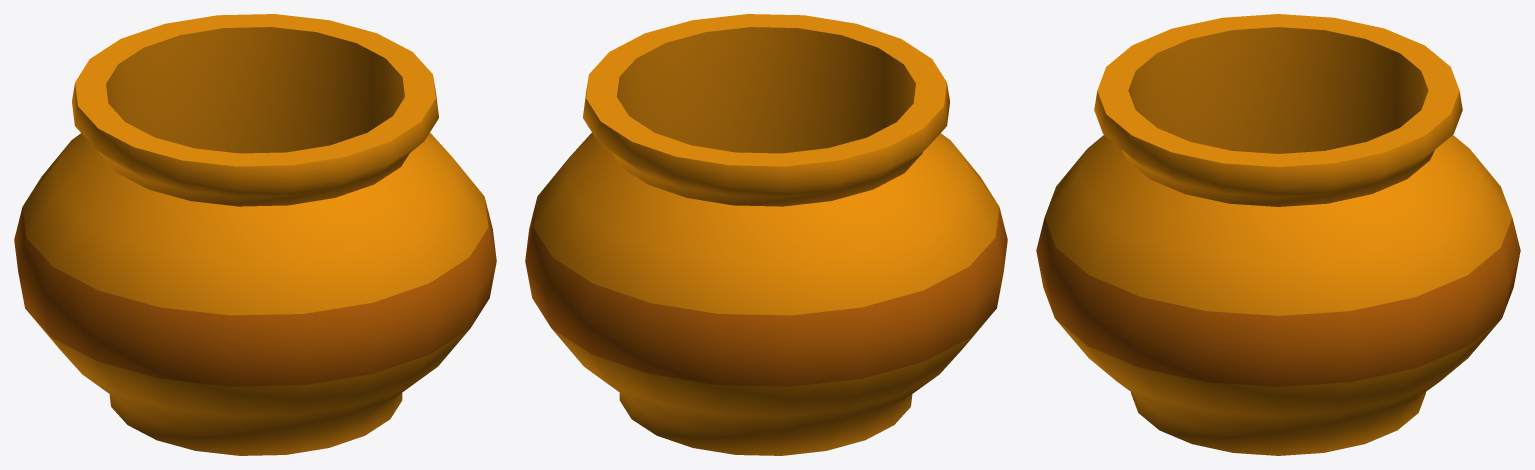
The model's file is Pottery_03.glb.
The picture shows the model from 3 angles, left to right: view 1: azimuth 30°, elevation 25°; view 2: azimuth 150°, elevation 25°; view 3: azimuth 270°, elevation 25°; orthographic projection.
Visible parts, largest first — view 1: Pottery_03; view 2: Pottery_03; view 3: Pottery_03.
Part boxes in pixels (box(x1,y1,x2,y2)): Pottery_03: box(14, 14, 496, 455); Pottery_03: box(525, 14, 1007, 455); Pottery_03: box(1036, 14, 1520, 455).
Size of the model in its own units: 0.3807 by 0.2629 by 0.3807.
1 material, 1 textured.
